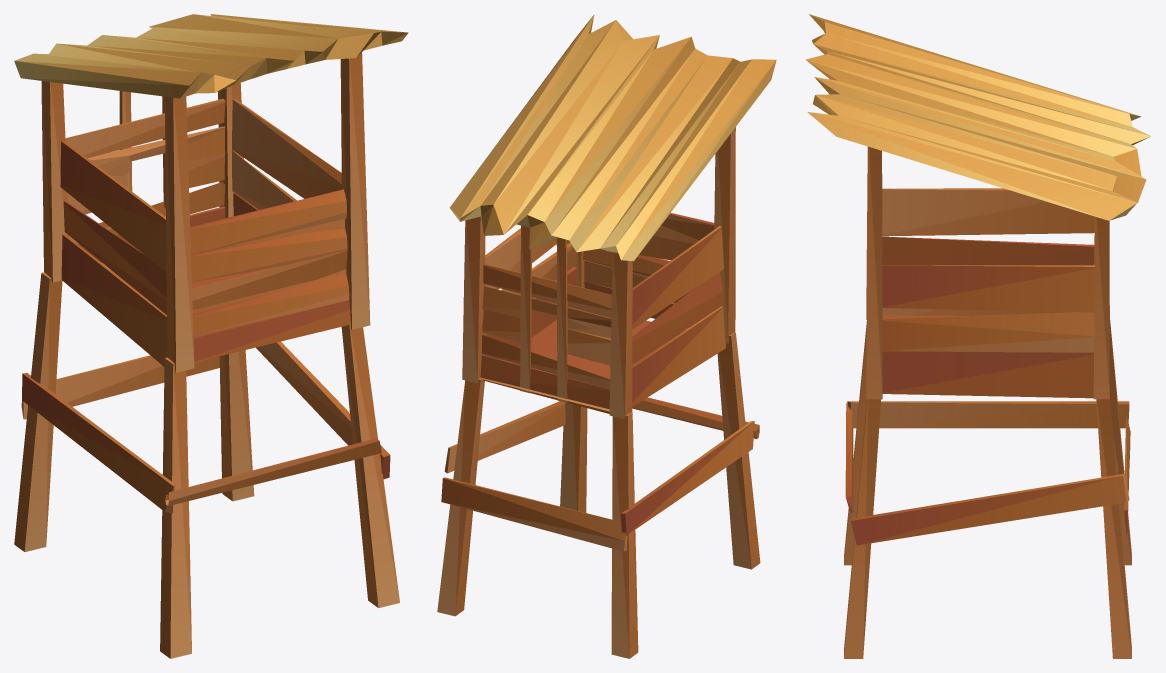
File: GL-Manmade-11-LOD3.fbx
The picture shows the model from 3 angles, left to right: view 1: azimuth 30°, elevation 25°; view 2: azimuth 150°, elevation 25°; view 3: azimuth 270°, elevation 25°; orthographic projection. The views are drawn at different scales.
Parts seen in each view (by area): view 1: GL_Manmade_11; view 2: GL_Manmade_11; view 3: GL_Manmade_11.
Part boxes in pixels (x1,y1,x2,y2): GL_Manmade_11: (14, 14, 408, 658); GL_Manmade_11: (437, 14, 776, 658); GL_Manmade_11: (806, 14, 1151, 658).
Size of the model in its own units: 1.01 by 2.46 by 1.42.
